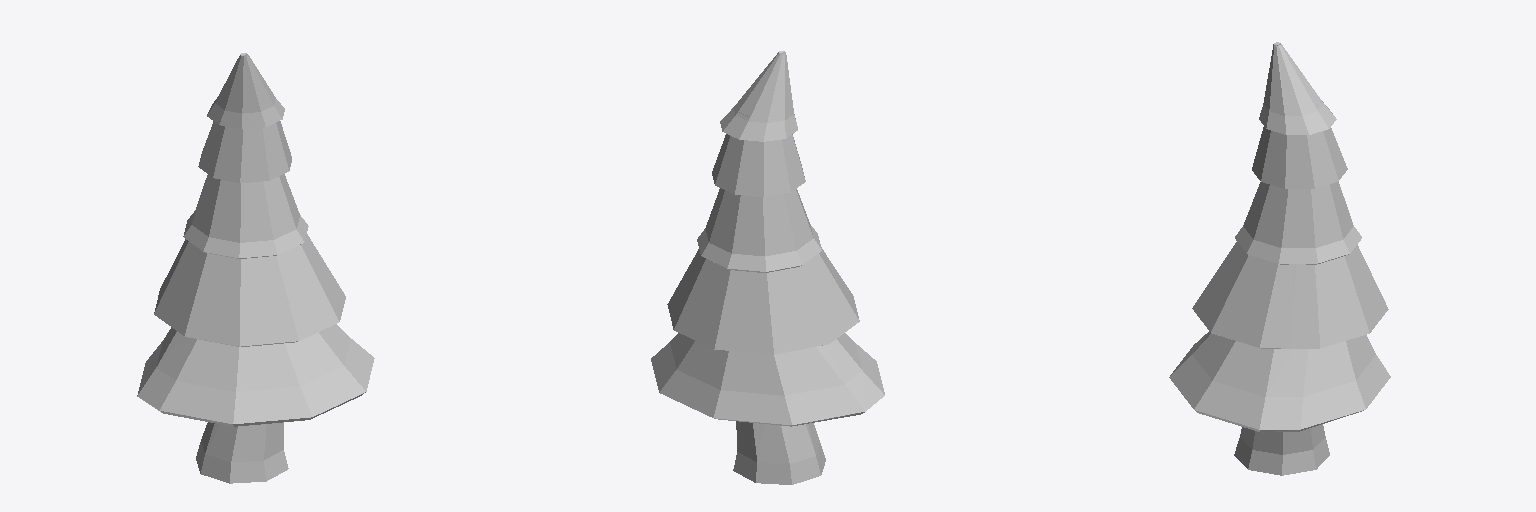
The model's file is tree1.obj.
3 renders of one model, left to right at view 1: azimuth 30°, elevation 25°; view 2: azimuth 150°, elevation 25°; view 3: azimuth 270°, elevation 25°, orthographic.
Parts seen in each view (by area): view 1: Circle, Cylinder.001; view 2: Circle, Cylinder.001; view 3: Circle, Cylinder.001.
Boxes of the visible parts, <box> form: Circle: <box>137,53,374,426</box>; Cylinder.001: <box>196,422,288,483</box>; Circle: <box>651,51,884,426</box>; Cylinder.001: <box>733,421,825,484</box>; Circle: <box>1169,42,1390,432</box>; Cylinder.001: <box>1234,424,1329,475</box>.
Size of the model in its own units: 5.2 by 9.43 by 4.61.